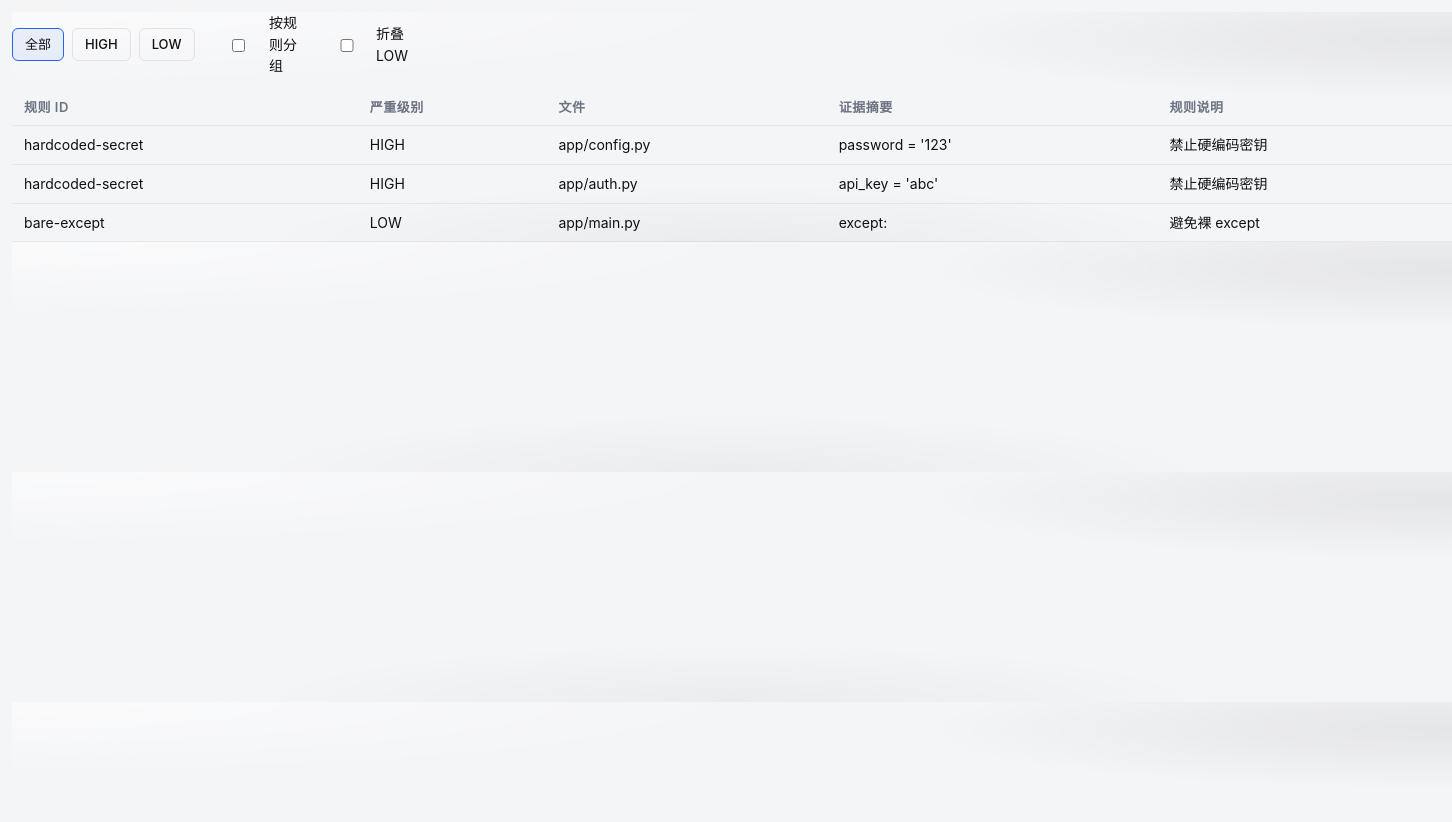
Test: RuleHitsPanel › 折叠 LOW 时隐藏低严重级别命中
This screenshot has width=1452, height=822.
Click the checkbox labelled "折叠 LOW".
click(347, 45)  # box [324,38,369,52]
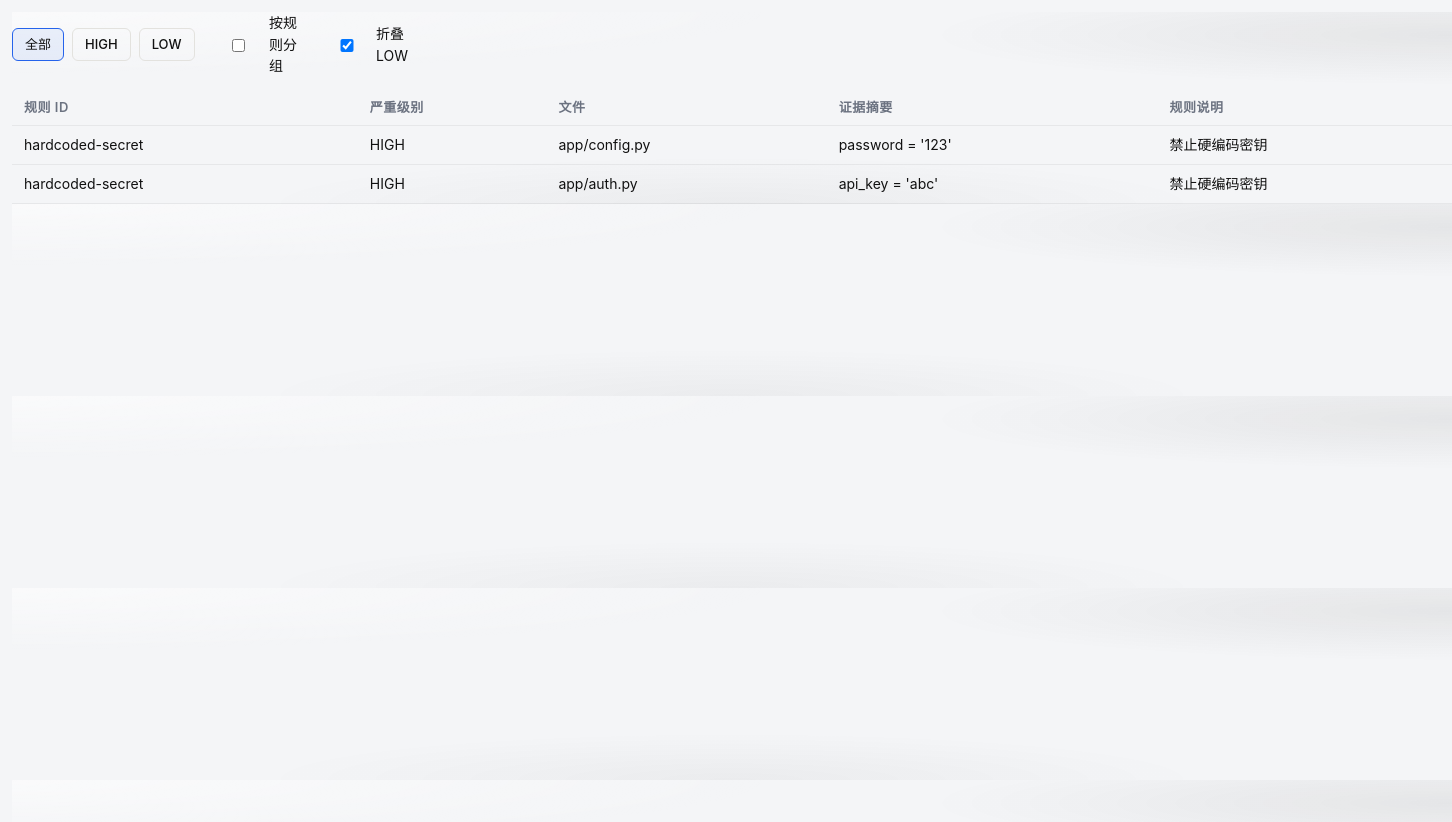
Expected: the text "禁止硬编码密钥" in the row of "app/config.py" is shown, [1169,136,1267,153]
Expected: the text "避免裸 except" is gone
